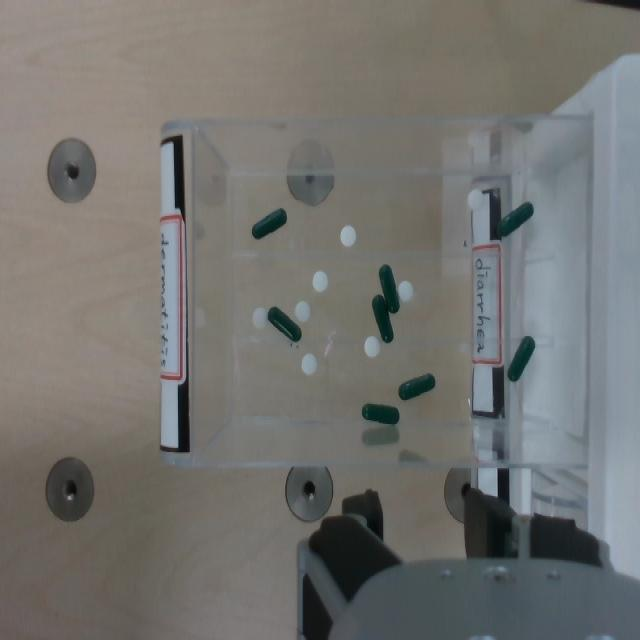ganakan_tab: (339, 224, 358, 249), (363, 334, 381, 360), (252, 305, 269, 331), (398, 279, 415, 303), (301, 352, 318, 375), (312, 270, 328, 293), (295, 300, 311, 322), (340, 225, 356, 247), (294, 300, 310, 321), (312, 271, 328, 292), (364, 336, 380, 357), (469, 189, 484, 211), (301, 353, 316, 375), (252, 307, 267, 328), (398, 280, 413, 301)
monodoxy_cap: (496, 200, 534, 239), (267, 304, 303, 343), (507, 335, 536, 383), (497, 201, 533, 237), (507, 336, 535, 381), (251, 207, 288, 240), (267, 307, 301, 341), (398, 370, 436, 400), (372, 295, 394, 343), (252, 208, 286, 239), (379, 264, 400, 313), (372, 295, 393, 343), (398, 373, 435, 400), (379, 264, 399, 312), (362, 402, 400, 427), (362, 403, 399, 424)
